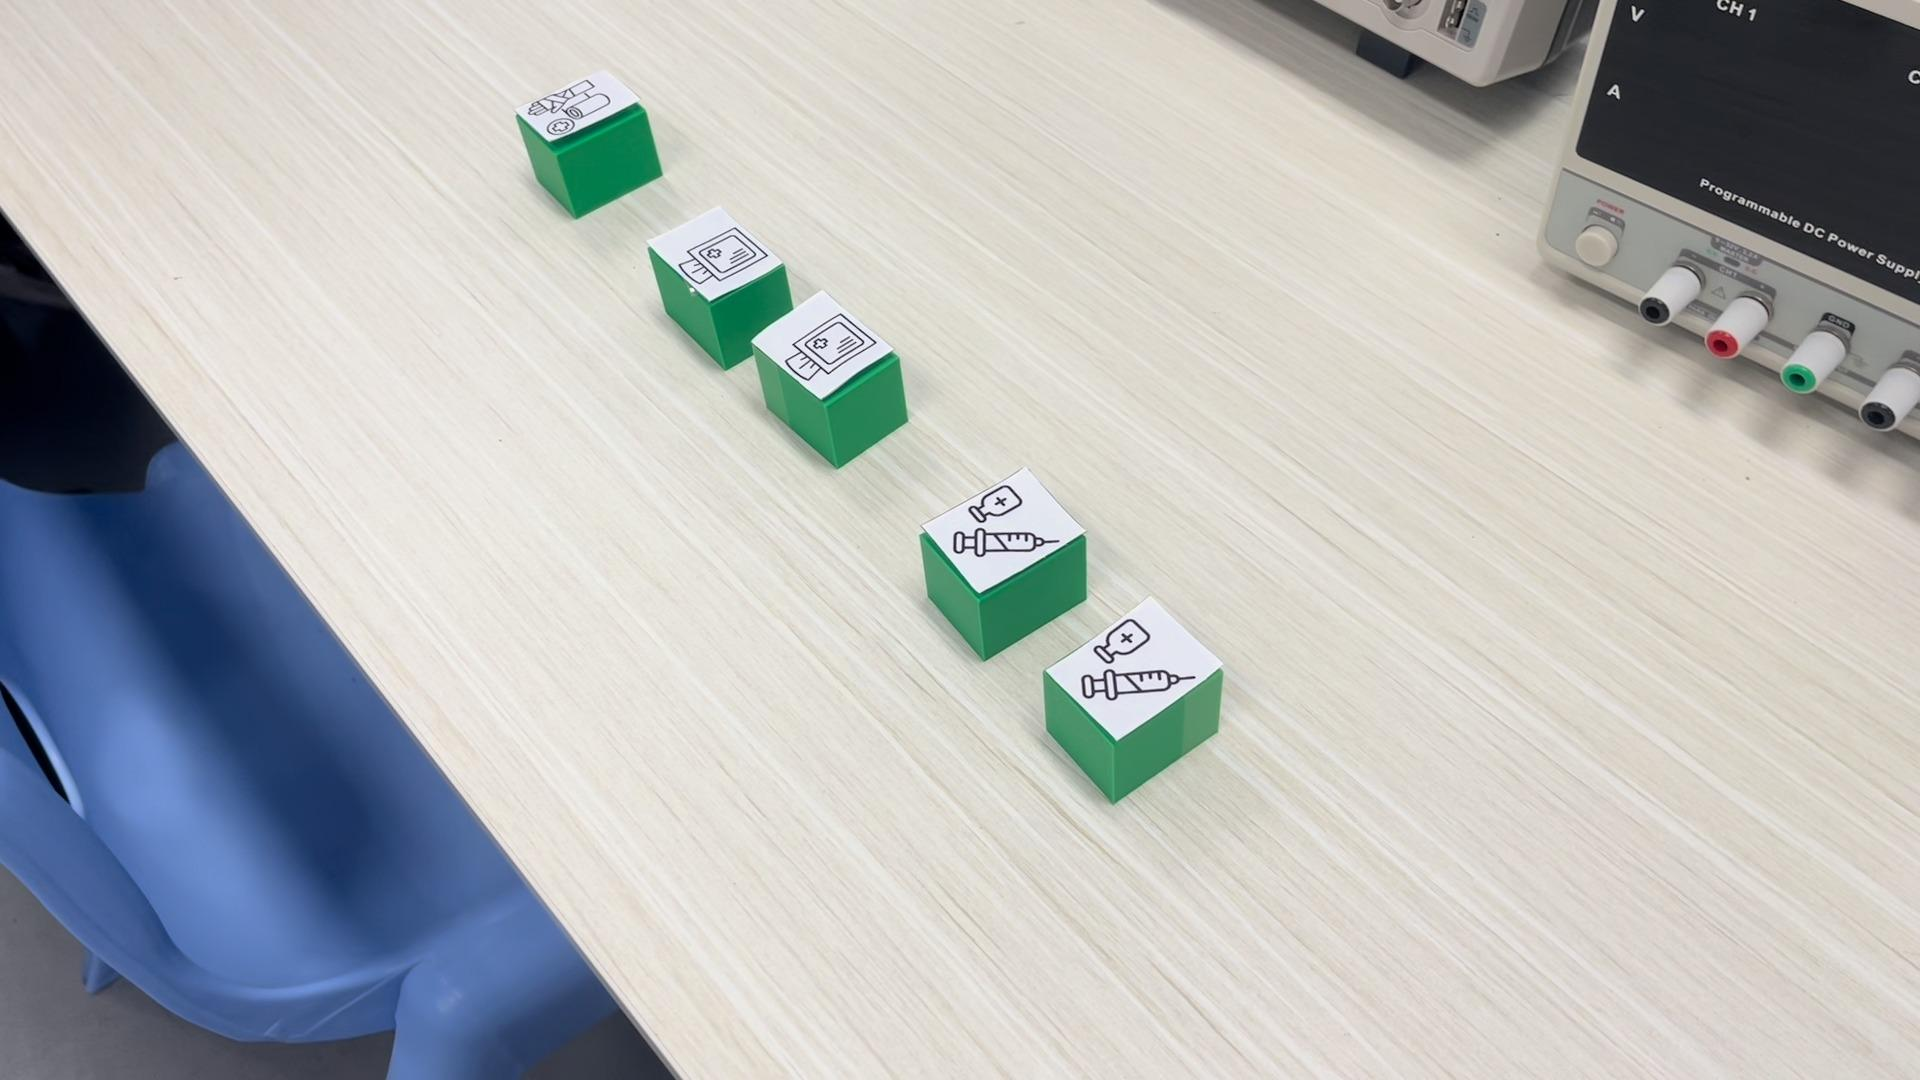Bandages: (516, 66, 665, 218)
Gauze: (752, 286, 907, 472), (645, 204, 791, 369)
antiseptic cream: (1039, 593, 1225, 804), (918, 462, 1087, 663)
